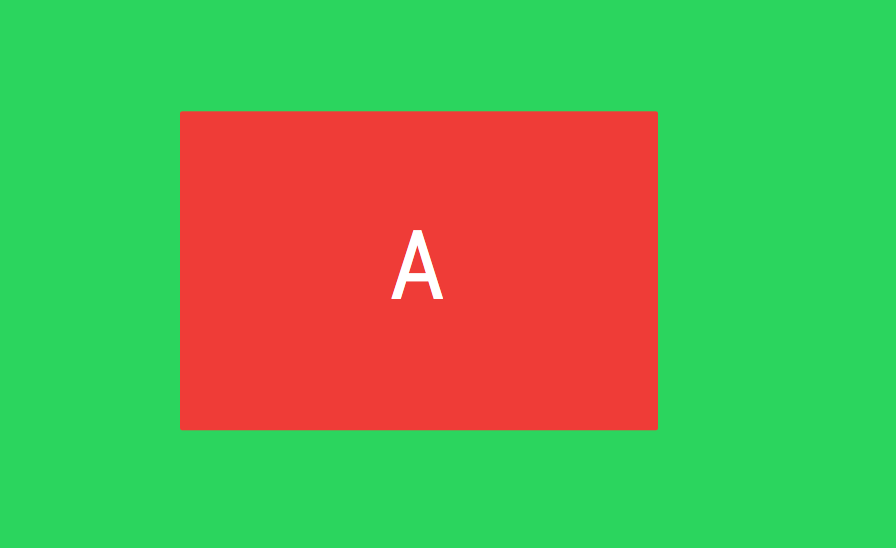A: (385, 225, 453, 307)
rectangle: (172, 108, 664, 435)
